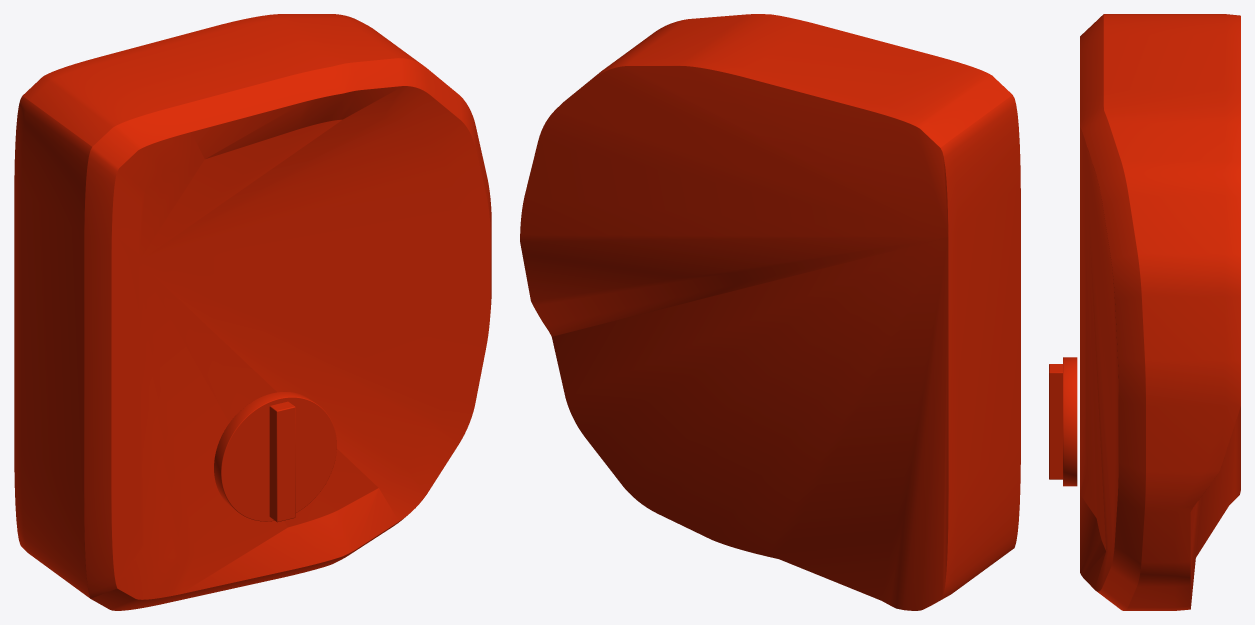
Rendered from base_link_worx_orange.obj.
3 views of the same model, side by side, from view 1: azimuth 30°, elevation 25°; view 2: azimuth 150°, elevation 25°; view 3: azimuth 270°, elevation 25° (orthographic). The views are drawn at different scales.
Parts seen in each view (by area): view 1: base_link__wr141e_orange_hood, base_link__height_adjustment_dial, base_link__height_dial_grip; view 2: base_link__wr141e_orange_hood; view 3: base_link__wr141e_orange_hood, base_link__height_adjustment_dial, base_link__height_dial_grip.
Boxes of the visible parts, left/top/right/bottom form: base_link__wr141e_orange_hood: left=14, top=14, right=491, bottom=610; base_link__height_adjustment_dial: left=214, top=391, right=336, bottom=521; base_link__height_dial_grip: left=269, top=401, right=295, bottom=522; base_link__wr141e_orange_hood: left=520, top=14, right=1020, bottom=610; base_link__wr141e_orange_hood: left=1080, top=14, right=1240, bottom=610; base_link__height_adjustment_dial: left=1063, top=357, right=1077, bottom=486; base_link__height_dial_grip: left=1049, top=364, right=1062, bottom=479.
Bounding box in the file's own units: 0.363 × 0.404 × 0.1455.
